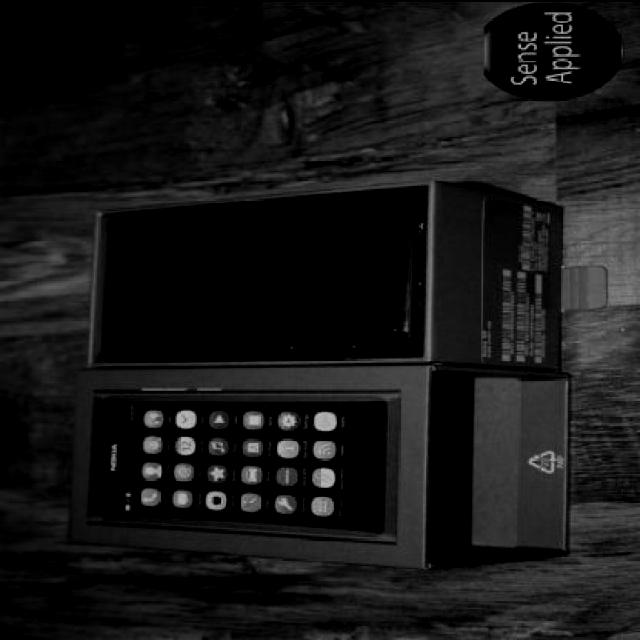fake: (63, 374, 434, 556), (112, 198, 420, 350)
